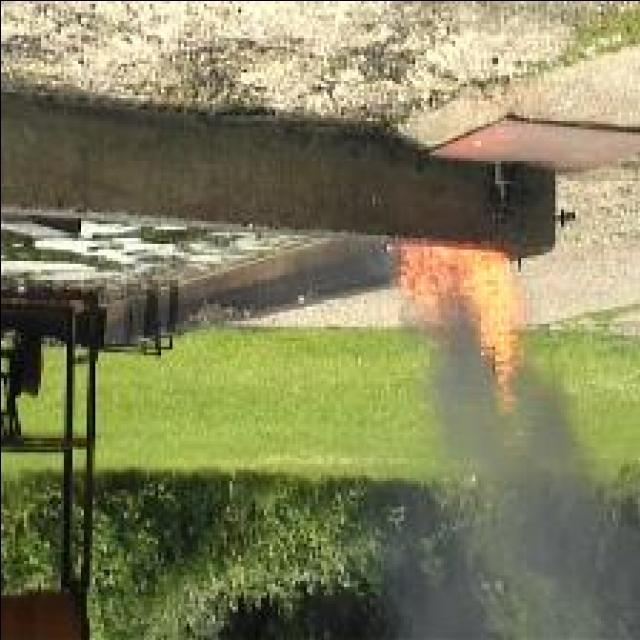Fire: (396, 244, 522, 410)
